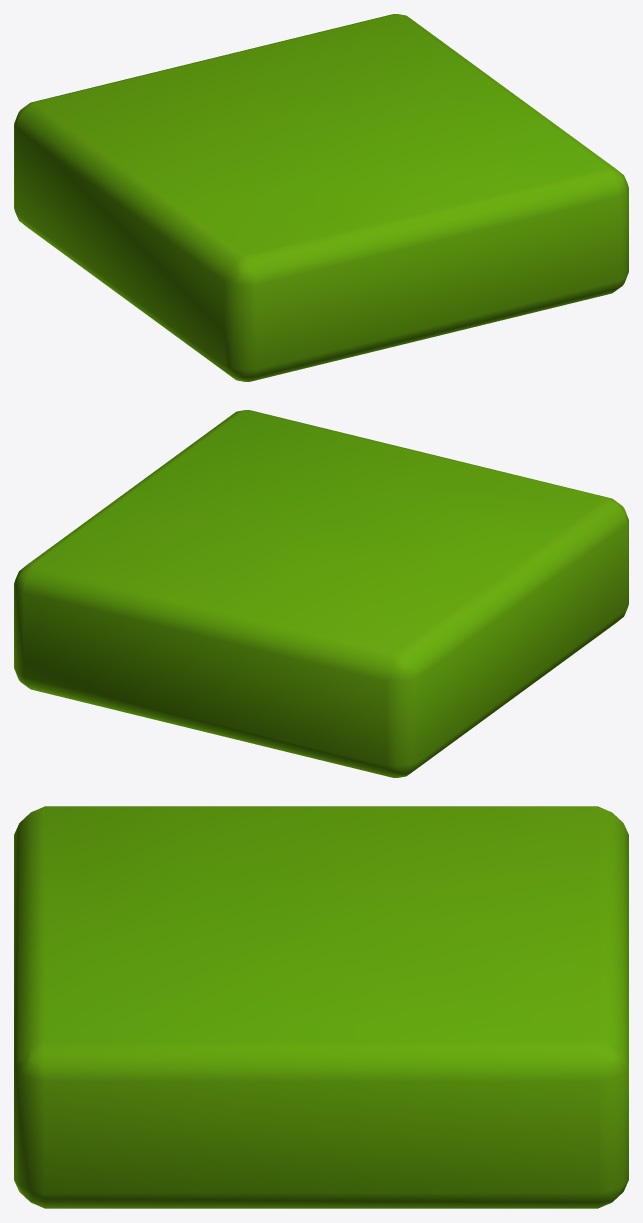
File: SquareBlockGreen.fbx
3 renders of one model, top to bottom at view 1: azimuth 30°, elevation 25°; view 2: azimuth 150°, elevation 25°; view 3: azimuth 270°, elevation 25°, orthographic. The views are drawn at different scales.
Visible parts, largest first — view 1: SquareBlock; view 2: SquareBlock; view 3: SquareBlock.
Part boxes in pixels (x1,y1,x2,y2): SquareBlock: [14, 14, 628, 381]; SquareBlock: [14, 410, 628, 777]; SquareBlock: [14, 806, 628, 1208].
Bounding box in the file's own units: 4 × 1.2 × 4.
